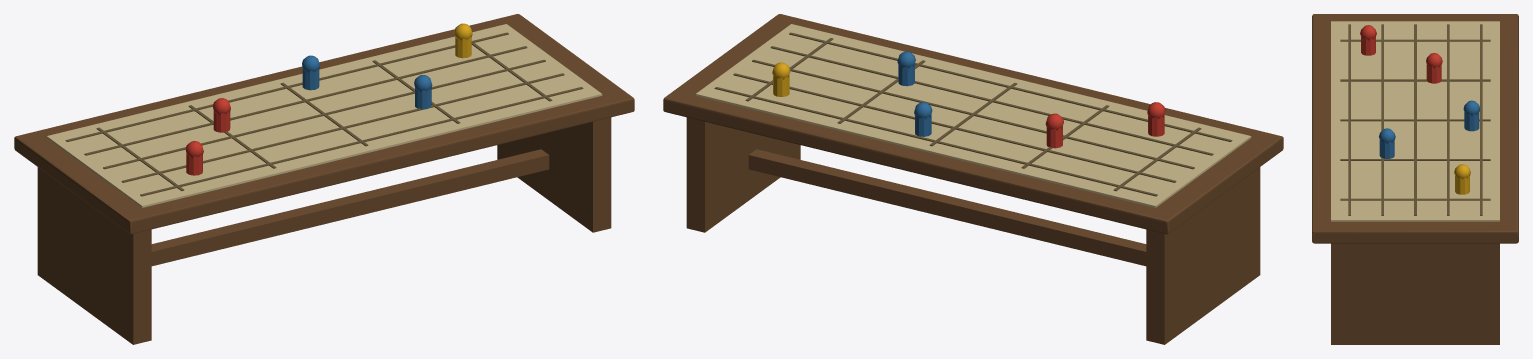
File: war-table.glb
The picture shows the model from 3 angles, left to right: view 1: azimuth 30°, elevation 25°; view 2: azimuth 150°, elevation 25°; view 3: azimuth 270°, elevation 25°; orthographic projection. The views are drawn at different scales.
Parts seen in each view (by area): view 1: part-wood, part-map, part-ink, part-marker-#c0392b, part-marker-#2f6b9a, part-marker-#d4a017; view 2: part-wood, part-map, part-ink, part-marker-#c0392b, part-marker-#2f6b9a, part-marker-#d4a017; view 3: part-wood, part-map, part-ink, part-marker-#2f6b9a, part-marker-#c0392b, part-marker-#d4a017.
Boxes of the visible parts, x1=… form: part-wood: x1=14, y1=14, x2=634, y2=344; part-map: x1=46, y1=24, x2=602, y2=207; part-ink: x1=65, y1=32, x2=583, y2=196; part-marker-#c0392b: x1=185, y1=98, x2=230, y2=175; part-marker-#2f6b9a: x1=302, y1=55, x2=432, y2=109; part-marker-#d4a017: x1=454, y1=23, x2=472, y2=58; part-wood: x1=663, y1=14, x2=1283, y2=344; part-map: x1=695, y1=24, x2=1251, y2=207; part-ink: x1=714, y1=32, x2=1232, y2=196; part-marker-#c0392b: x1=1045, y1=102, x2=1165, y2=148; part-marker-#2f6b9a: x1=897, y1=51, x2=932, y2=136; part-marker-#d4a017: x1=772, y1=62, x2=790, y2=96; part-wood: x1=1312, y1=14, x2=1518, y2=344; part-map: x1=1331, y1=21, x2=1499, y2=221; part-ink: x1=1340, y1=24, x2=1490, y2=215; part-marker-#2f6b9a: x1=1379, y1=100, x2=1480, y2=158; part-marker-#c0392b: x1=1360, y1=25, x2=1442, y2=83; part-marker-#d4a017: x1=1454, y1=164, x2=1470, y2=194.
Size of the model in its own units: 110 by 34.8 by 43.99.
